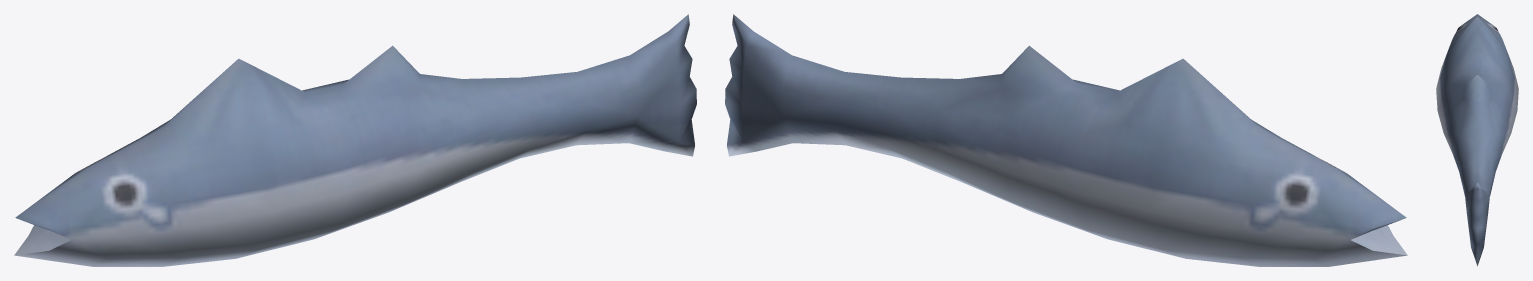
File: Homeworld_Interior_Md_Decoration_Prop_Pillow_01_Vo.fbx
3 renders of one model, left to right at view 1: azimuth 30°, elevation 25°; view 2: azimuth 150°, elevation 25°; view 3: azimuth 270°, elevation 25°, orthographic. The views are drawn at different scales.
Parts seen in each view (by area): view 1: Indoor_Md_Prop_Pillow_01_Vo; view 2: Indoor_Md_Prop_Pillow_01_Vo; view 3: Indoor_Md_Prop_Pillow_01_Vo.
Part boxes in pixels (x1,y1,x2,y2): Indoor_Md_Prop_Pillow_01_Vo: [14, 14, 696, 266]; Indoor_Md_Prop_Pillow_01_Vo: [725, 14, 1407, 266]; Indoor_Md_Prop_Pillow_01_Vo: [1436, 14, 1518, 266].
Size of the model in its own units: 0.7805 by 0.2283 by 0.1408.
